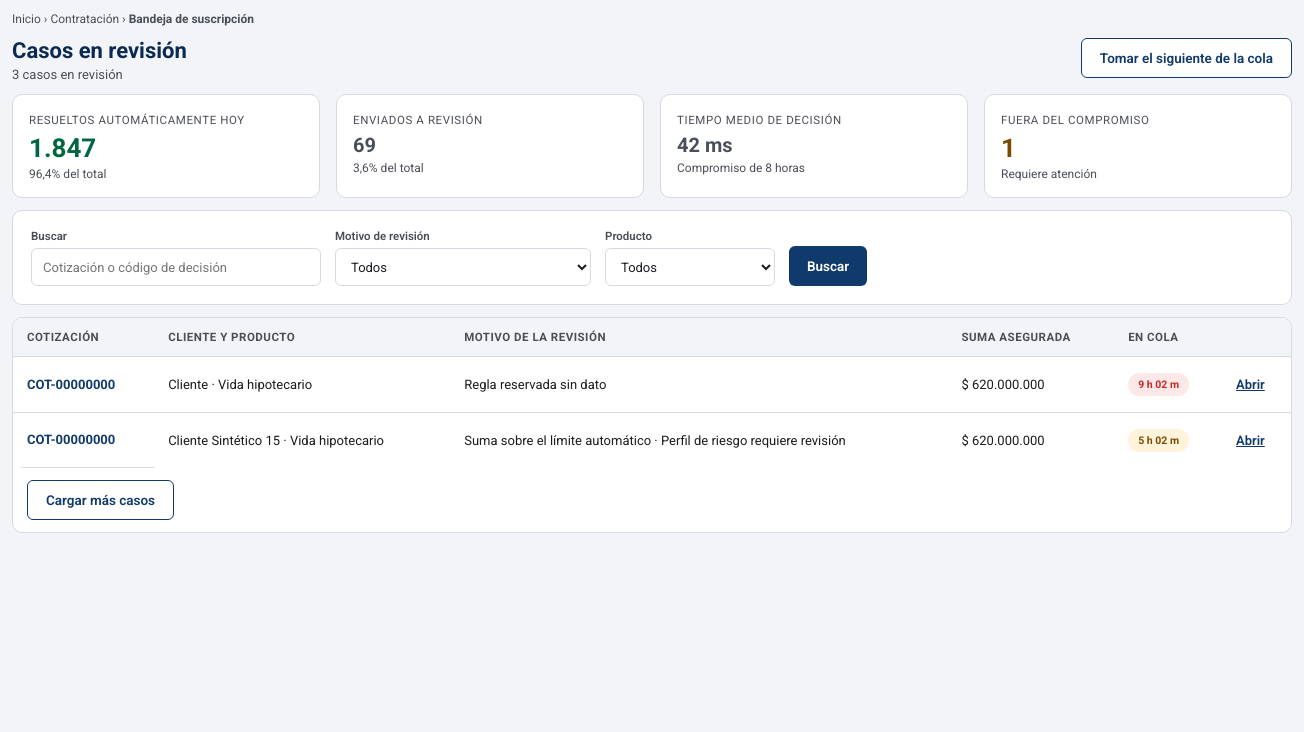
Scenario: BandejaSuscripcionComponent (E01, HU-W13) › «Cargar más» pide la siguiente página con el cursor y la agrega
The width and height of the screenshot is (1304, 732).
Click the button with class "mas" at (100, 500), box [27,480,174,520]
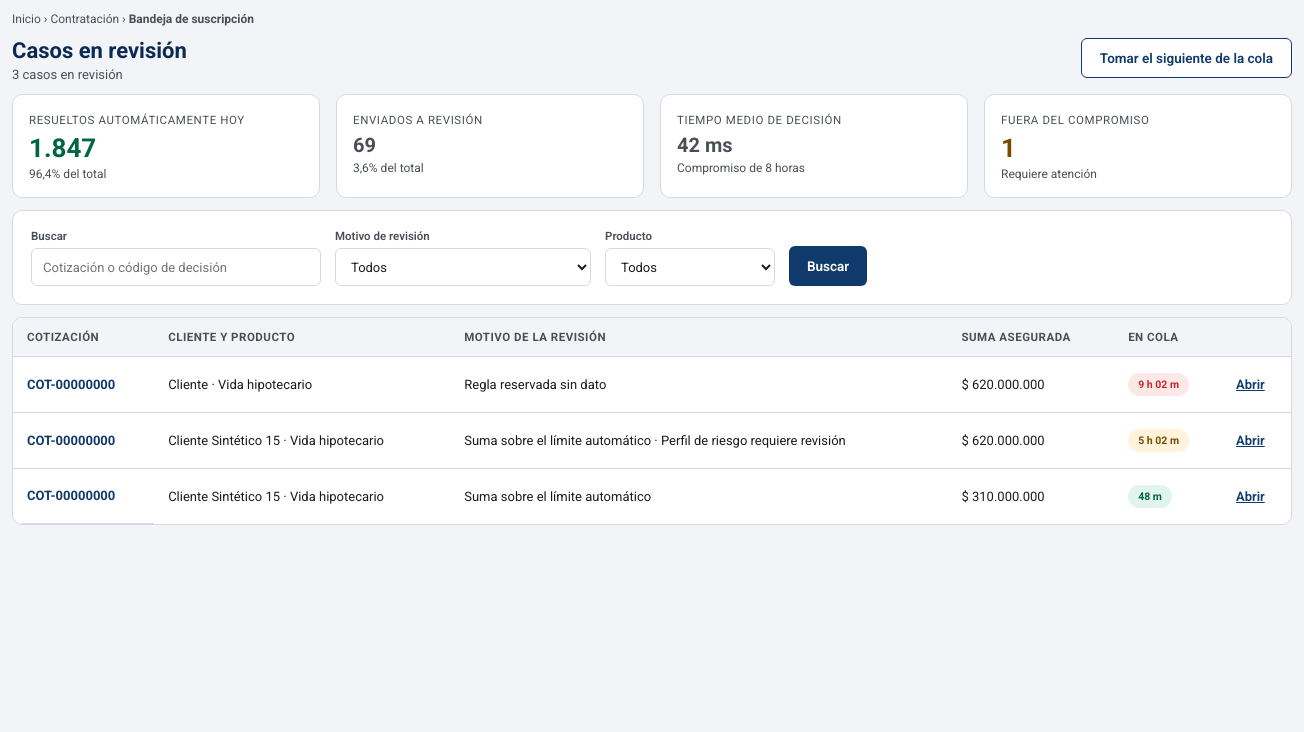
Check: the button with class "mas" is gone
